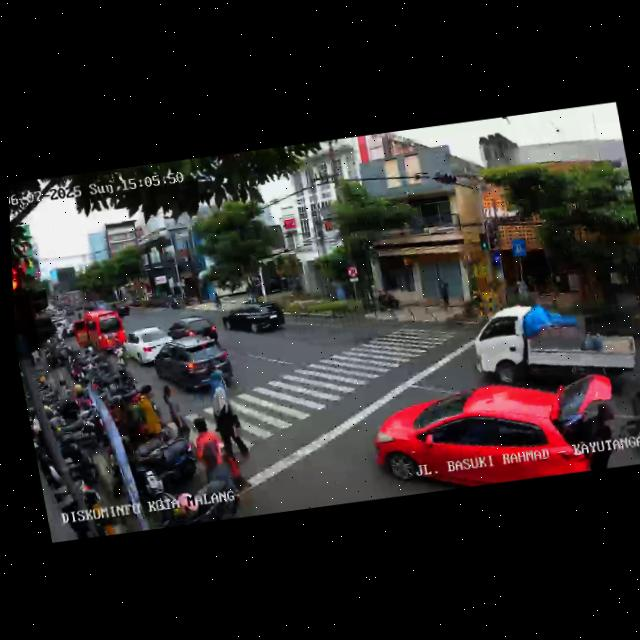car: (364, 367, 628, 500), (464, 288, 640, 397), (149, 330, 237, 399), (221, 298, 287, 342), (71, 309, 128, 358), (120, 323, 178, 369), (166, 313, 219, 350)
motorcycle: (612, 395, 640, 456)
person: (189, 412, 240, 505), (206, 370, 252, 467), (159, 380, 195, 453), (133, 381, 169, 443)
